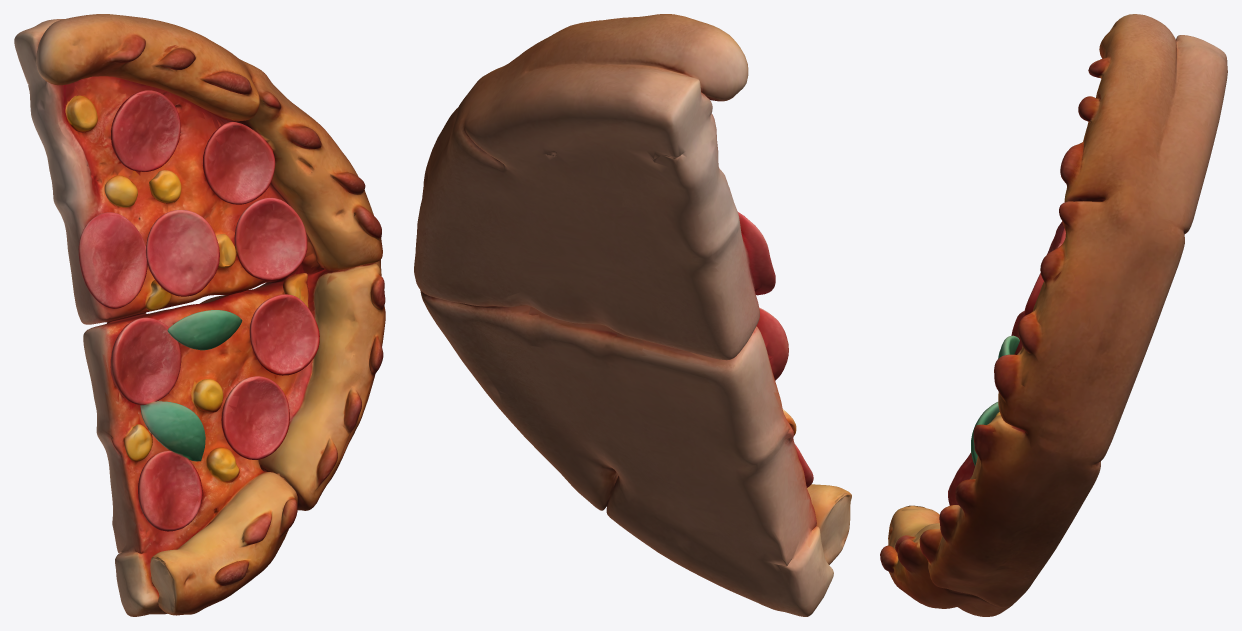
Rendered from Stack 2c - Pizza.glb.
3 renders of one model, left to right at view 1: azimuth 30°, elevation 25°; view 2: azimuth 150°, elevation 25°; view 3: azimuth 270°, elevation 25°, orthographic. The views are drawn at different scales.
Parts seen in each view (by area): view 1: Stack 2c - Pizza · mesh; view 2: Stack 2c - Pizza · mesh; view 3: Stack 2c - Pizza · mesh.
Part boxes in pixels (x1=…): Stack 2c - Pizza · mesh: x1=14, y1=14, x2=385, y2=616; Stack 2c - Pizza · mesh: x1=414, y1=14, x2=851, y2=616; Stack 2c - Pizza · mesh: x1=880, y1=14, x2=1227, y2=616.
Bounding box in the file's own units: 0.583 × 1 × 0.543.
1 material, 1 textured.
